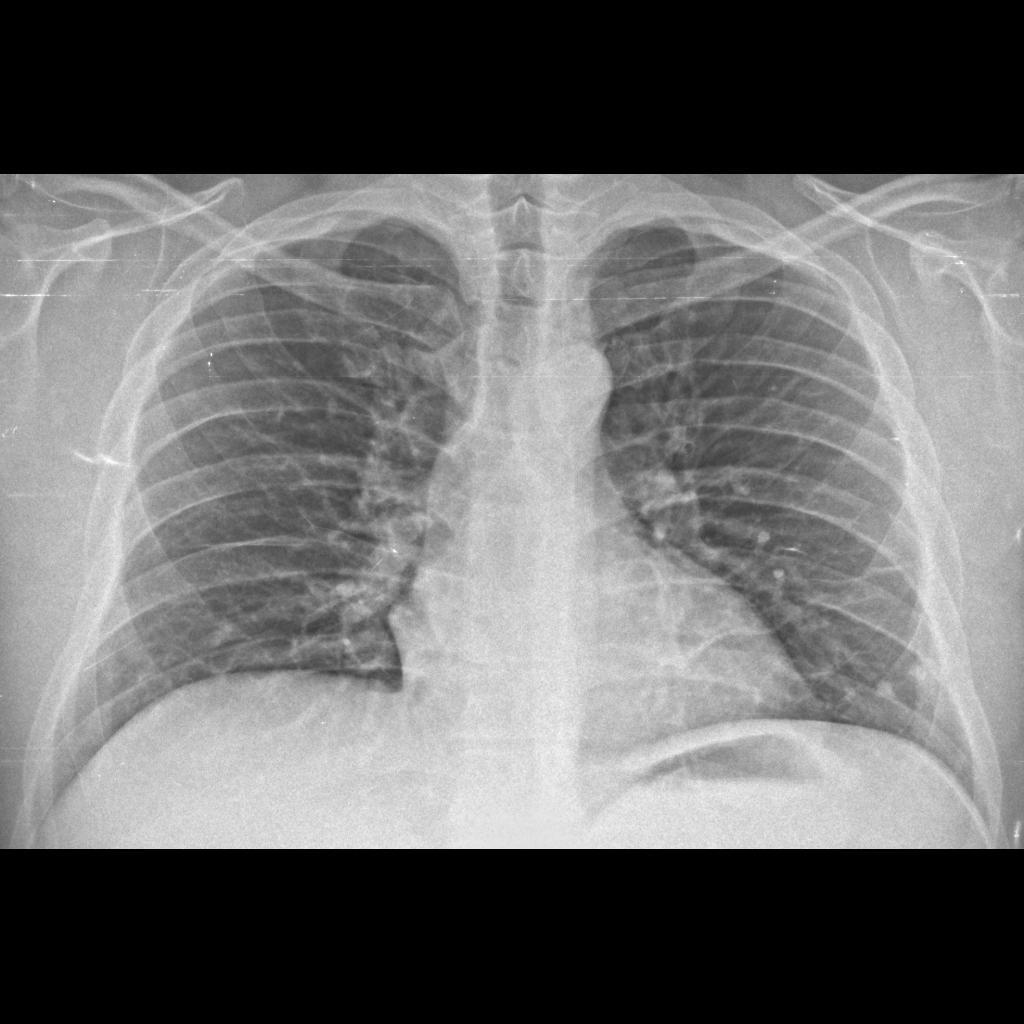Nodule: (908, 650, 940, 697), (870, 678, 902, 706)
